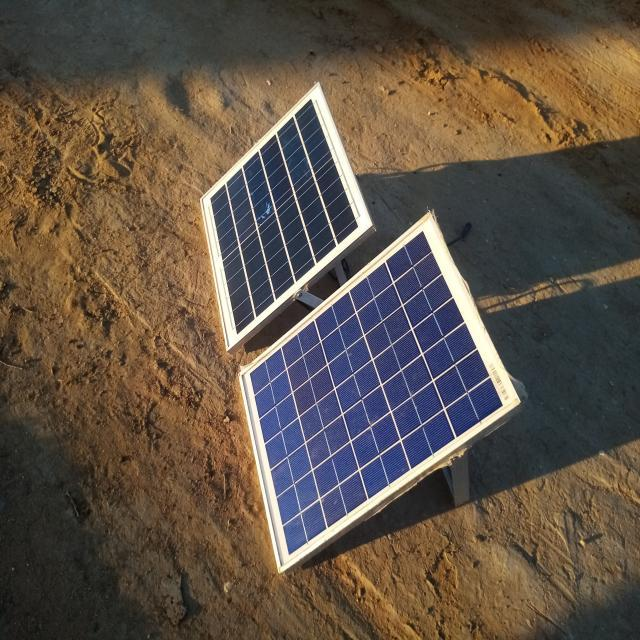no faulty: (239, 213, 521, 572), (200, 83, 372, 351)
